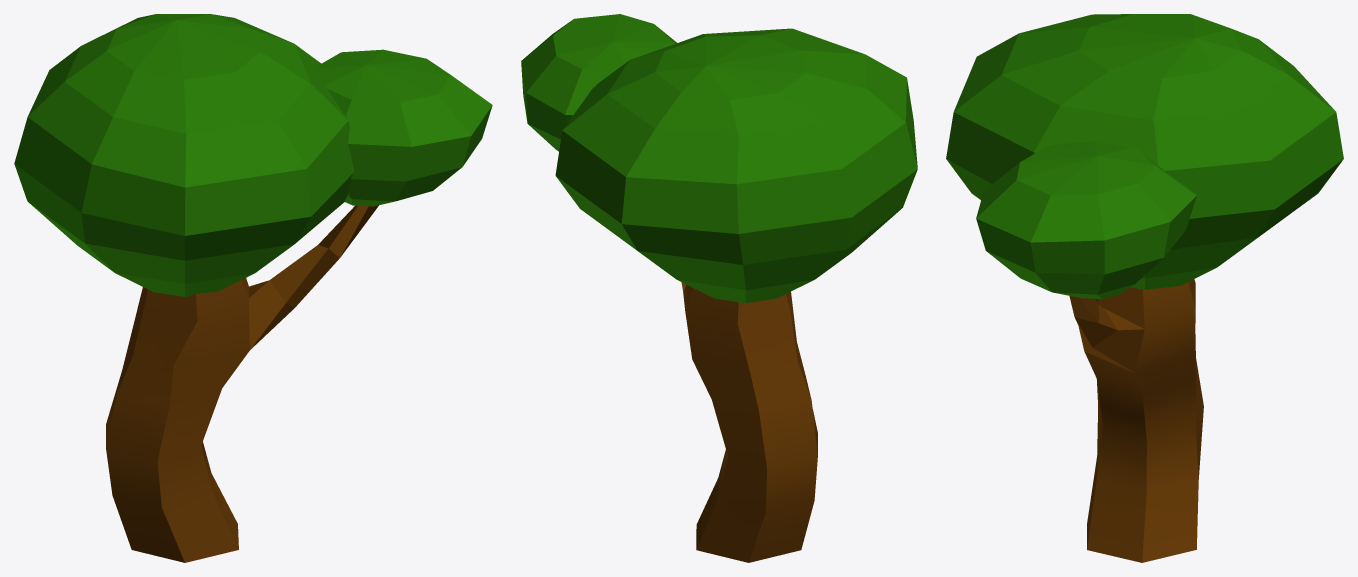
Rendered from classicTree.fbx.
3 renders of one model, left to right at view 1: azimuth 30°, elevation 25°; view 2: azimuth 150°, elevation 25°; view 3: azimuth 270°, elevation 25°, orthographic. The views are drawn at different scales.
Visible parts, largest first — view 1: classicTree; view 2: classicTree; view 3: classicTree.
Part boxes in pixels (<box>): classicTree: <box>14,14,492,562</box>; classicTree: <box>521,14,917,562</box>; classicTree: <box>946,14,1343,562</box>.
Size of the model in its own units: 6.68 by 8.05 by 5.73.
